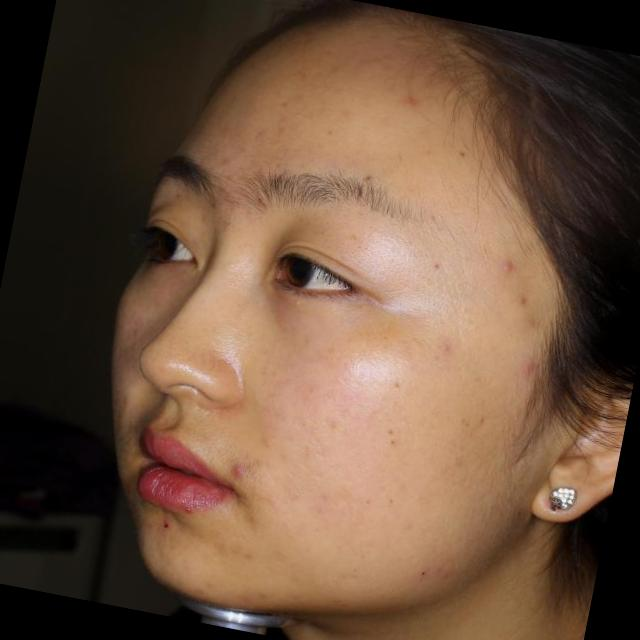acne: (400, 80, 433, 115), (242, 160, 277, 192), (223, 456, 255, 489), (520, 351, 544, 384), (493, 251, 522, 277), (507, 288, 534, 315), (247, 192, 269, 212)
